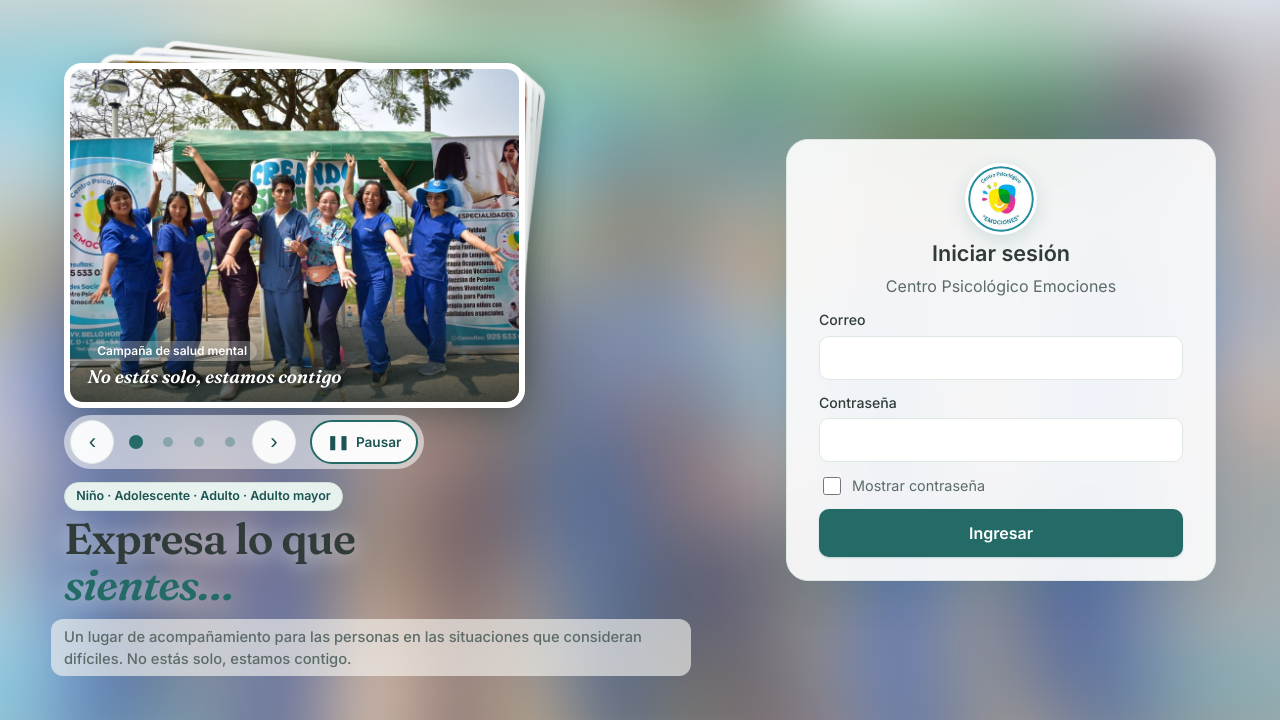
Scenario: Login con fotos del centro › valida los campos antes de enviar
This screenshot has width=1280, height=720.
Step 1. Click the button "Ingresar" → (1001, 533), box [819,509,1183,557]
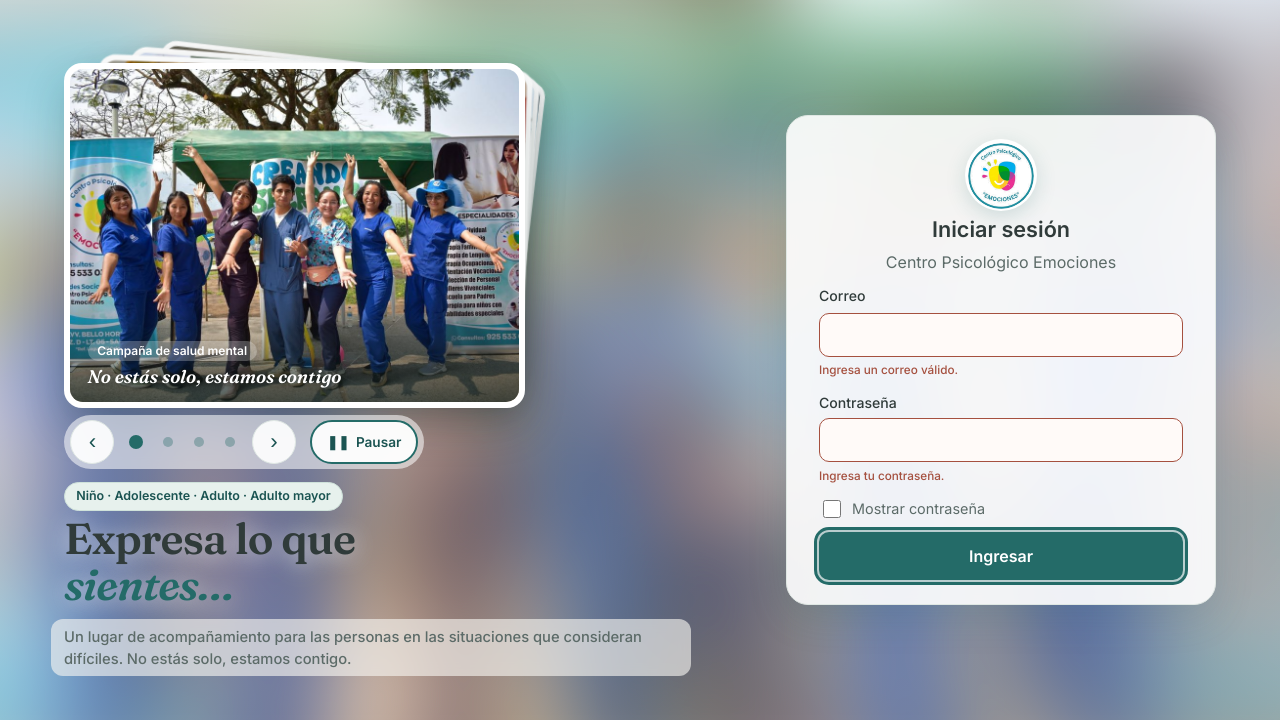
Check: the text "Ingresa un correo válido." is shown, box [819,364,958,378]
